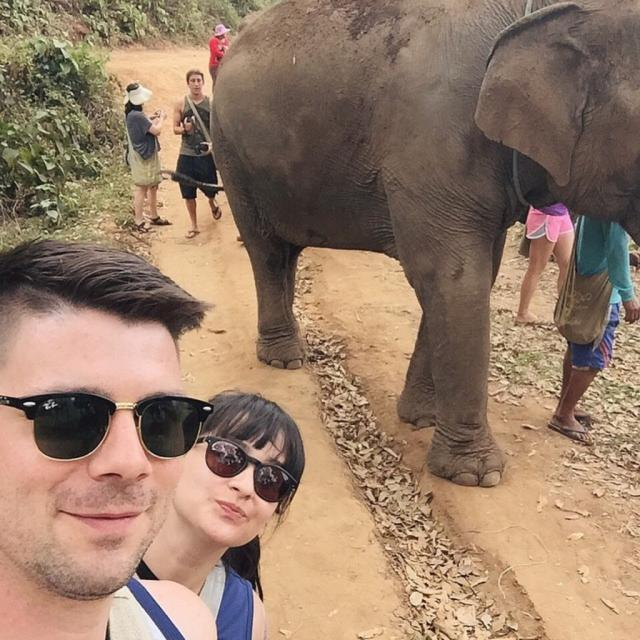elephant: (210, 0, 639, 486)
